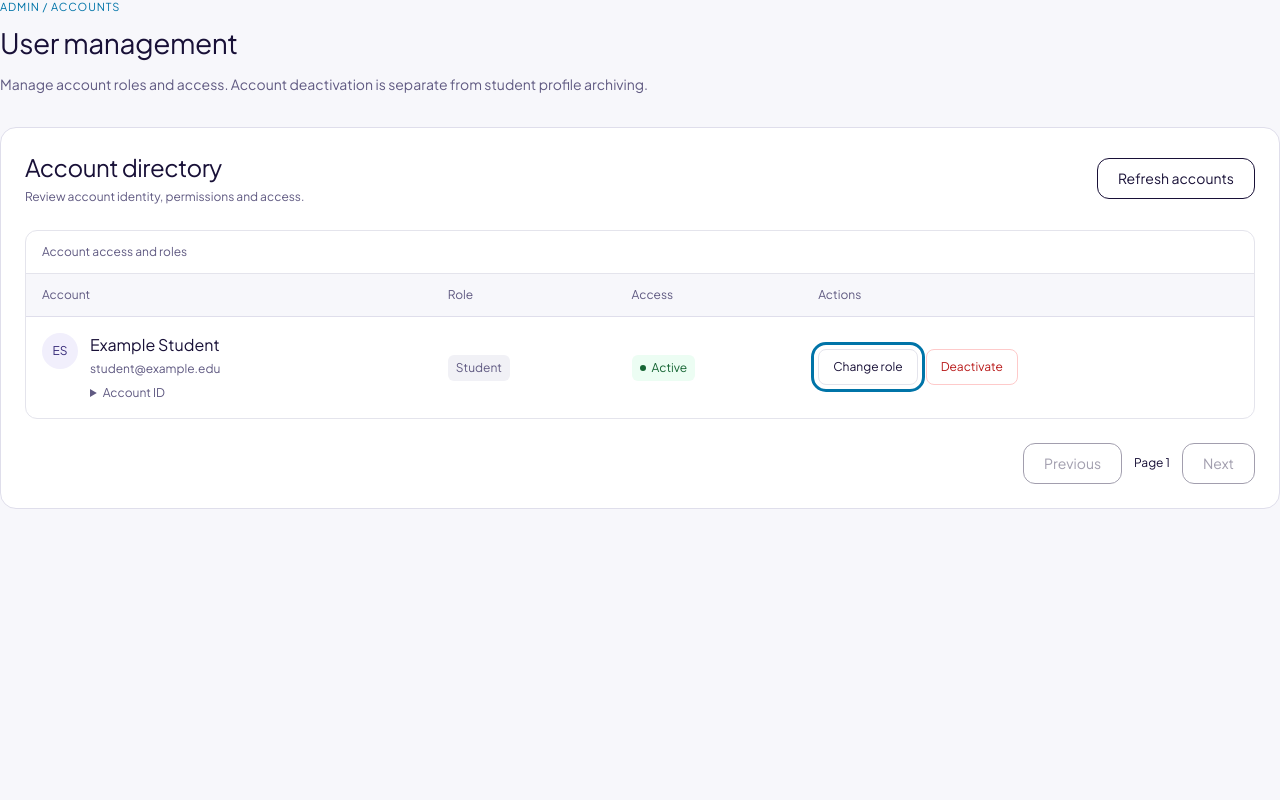
Test: requires role selection and confirmation; cancellation restores focus
Click the button "Change role".
click(868, 367)  # box [818, 349, 918, 385]
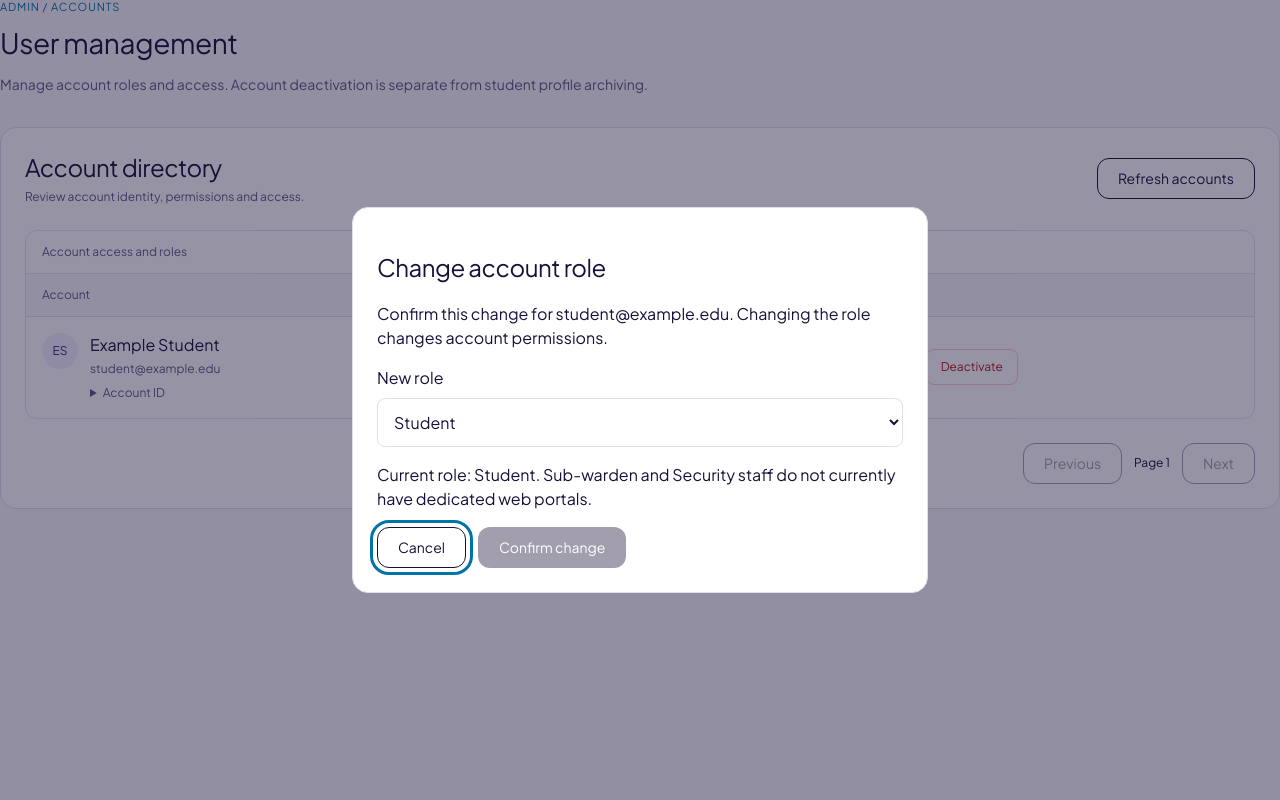
Expected: the button "Confirm change" is disabled, [478, 527, 626, 568]
Click the button "Cancel".
click(422, 547)  # box [377, 527, 466, 568]
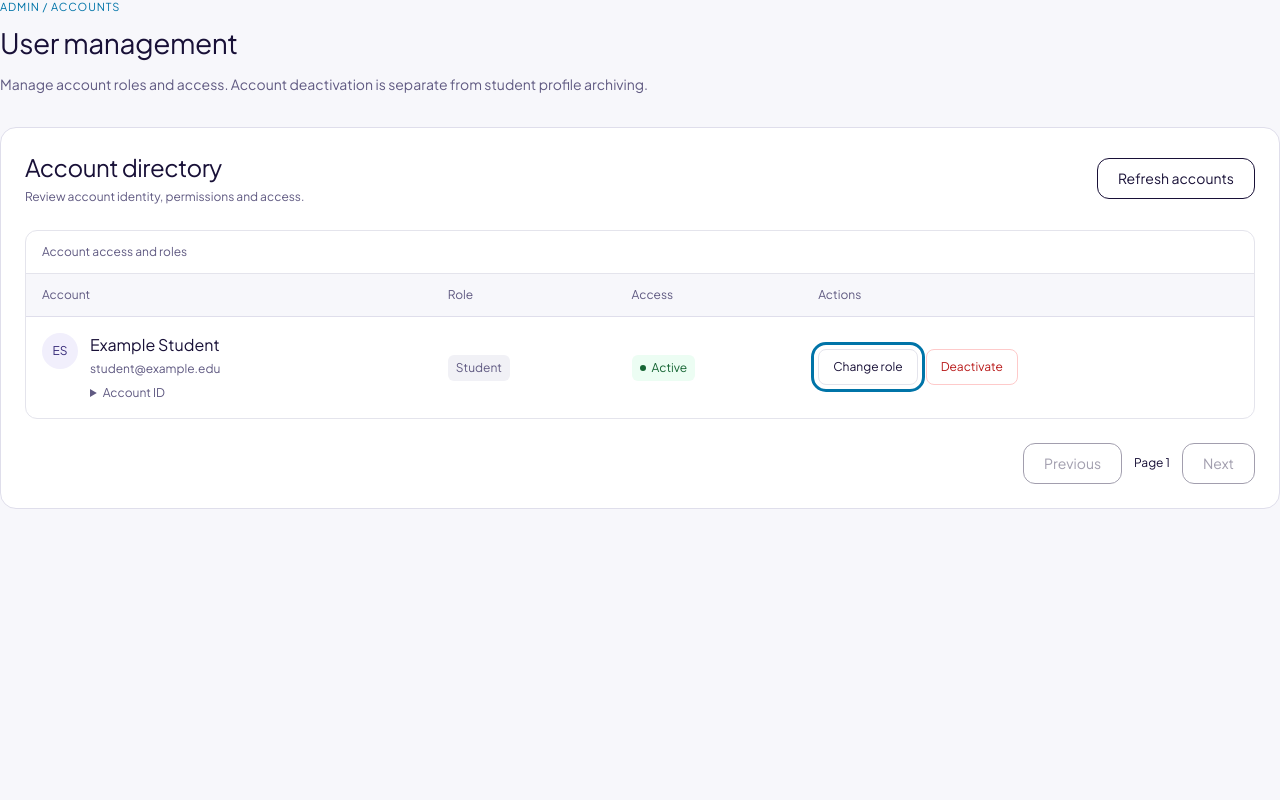
Expected: the dialog is gone
